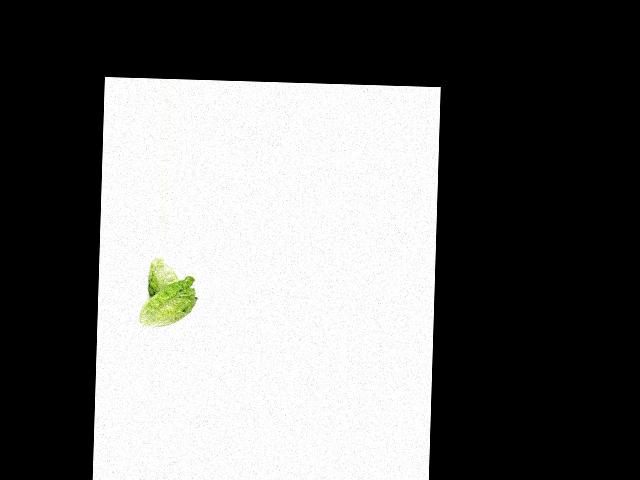lettuce: (144, 256, 180, 298)
